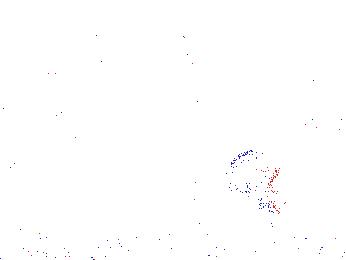flame jellyfish: (224, 149, 287, 216), (149, 166, 208, 220), (283, 62, 326, 132)
